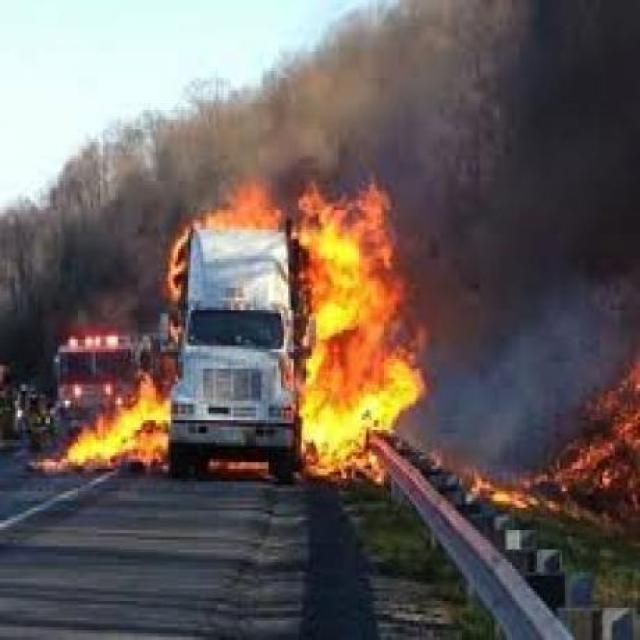Fire: (75, 185, 423, 489)
Smoke: (417, 0, 640, 464), (6, 18, 422, 182), (2, 135, 166, 339)
